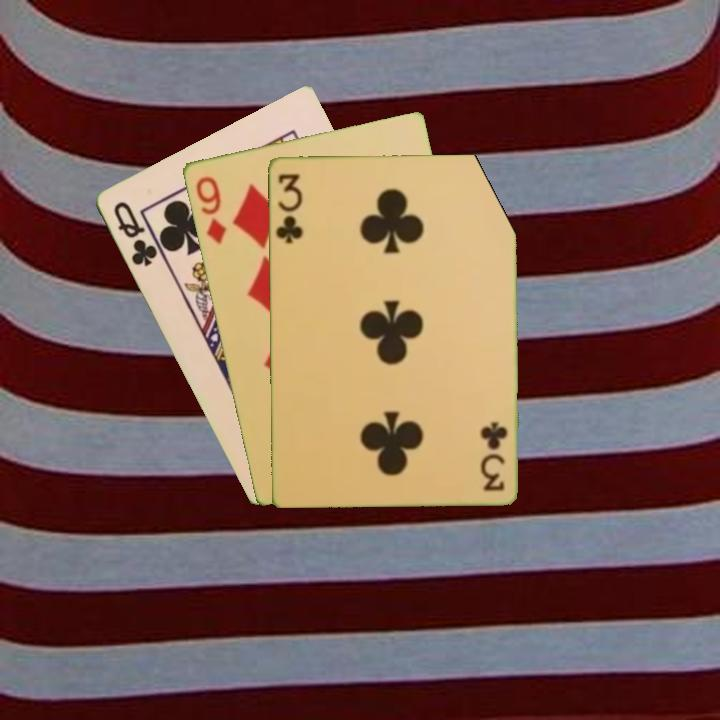3c: (272, 170, 305, 246), (479, 417, 509, 494)
9d: (191, 172, 229, 247)
Qc: (109, 197, 160, 270)
